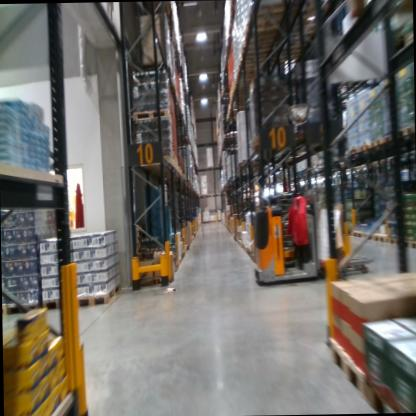pallet: (324, 328, 369, 404), (73, 277, 124, 318), (359, 372, 406, 411), (344, 0, 411, 18), (39, 288, 78, 318), (129, 108, 171, 129), (51, 392, 85, 416), (5, 301, 45, 319), (399, 122, 414, 141), (383, 125, 397, 145), (401, 233, 416, 250), (384, 236, 401, 246), (371, 232, 387, 242), (359, 141, 370, 155), (371, 138, 383, 150)
pallet_truck: (245, 175, 325, 290)
